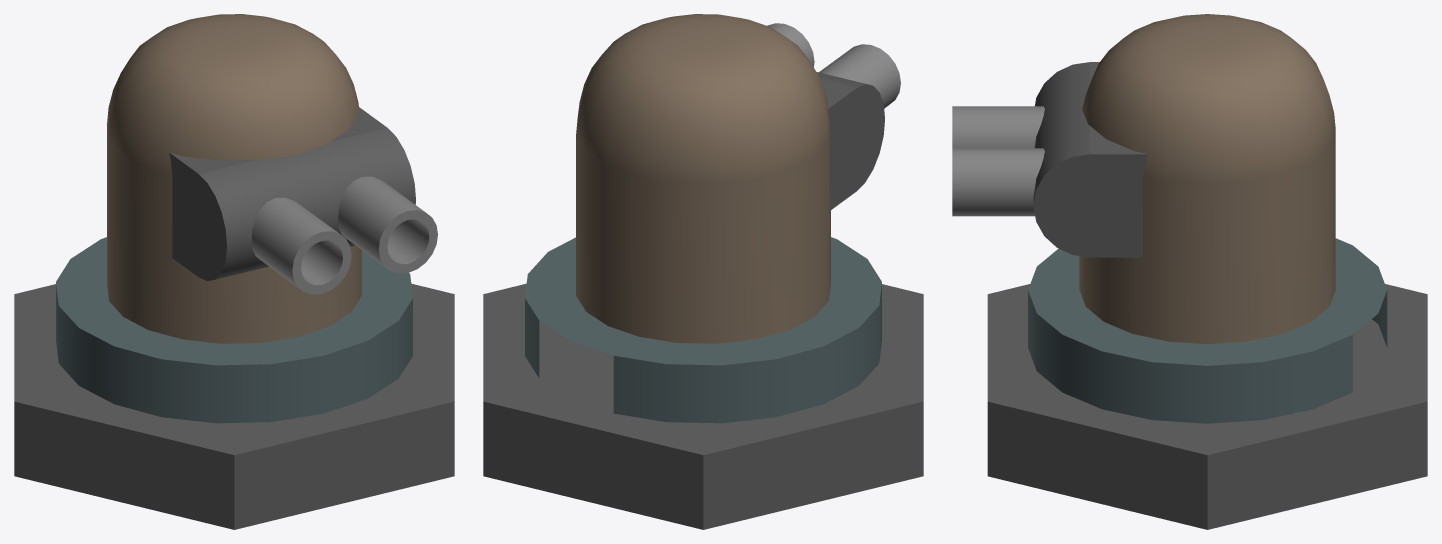
File: turret.fbx
3 renders of one model, left to right at view 1: azimuth 30°, elevation 25°; view 2: azimuth 150°, elevation 25°; view 3: azimuth 270°, elevation 25°, orthographic.
Parts seen in each view (by area): view 1: turret_main, turret, barrels; view 2: turret_main, turret, barrels; view 3: turret_main, turret, barrels.
Boxes of the visible parts, bbox=[...] form: turret_main: bbox=[56, 14, 412, 423]; turret: bbox=[14, 283, 454, 529]; barrels: bbox=[169, 106, 437, 294]; turret_main: bbox=[525, 14, 881, 423]; turret: bbox=[483, 283, 923, 529]; barrels: bbox=[767, 23, 900, 210]; turret_main: bbox=[1028, 14, 1387, 423]; turret: bbox=[987, 284, 1427, 529]; barrels: bbox=[952, 62, 1148, 257].
Size of the model in its own units: 396 by 331 by 371.
